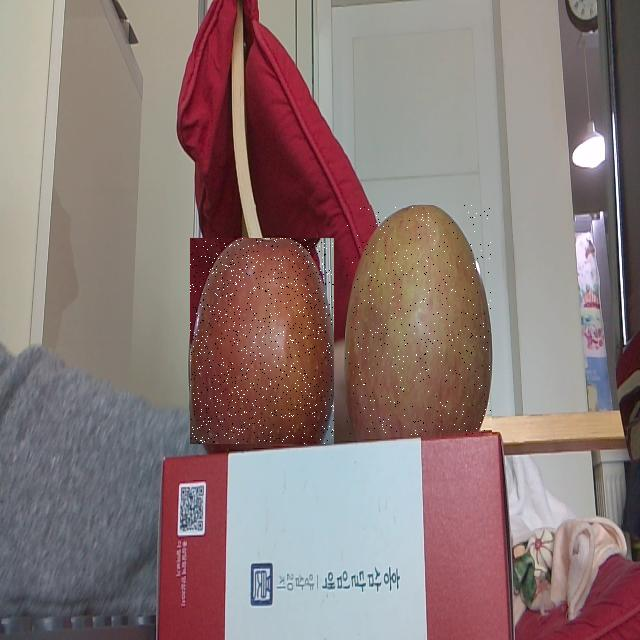apple: (345, 205, 492, 436), (190, 238, 334, 444)
